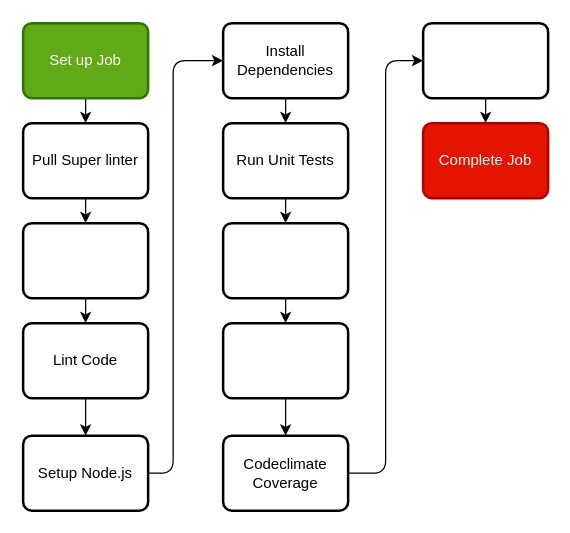
Some shapes in this 570 by 533 pixel diagram are drawn without their labels. Each missing label, with the centre of its shape:
"Checkout Code" goes at point 85,260.
"Documentation Generation" goes at point 285,360.
"Post Checkout Code" goes at point 485,60.
"Upload logs" goes at point 285,260.
